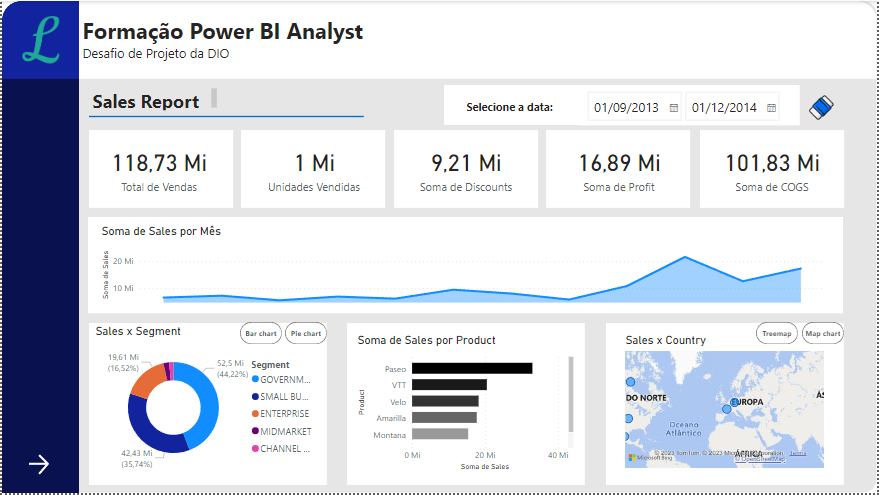

This screenshot's page, from the dashboard's own definition file:
{"tool":"powerbi","page":{"name":"P1","canvas":[1280,720],"ordinal":0},"visuals":[{"type":"shape","box":[10.1,0,1269.9,719.7],"z":0},{"type":"shape","box":[646.8,122.9,197.6,58.5],"z":0,"group":"g2"},{"type":"shape","box":[127.3,189.1,211.4,114.1],"z":0,"group":"g1"},{"type":"clusteredBarChart","title":"Sales x Segment ","fields":{"Category":["financials.Segment"],"Y":["Sum(financials. Sales)"]},"box":[140.5,481.5,316.1,216.6],"z":0,"group":"g4"},{"type":"shape","box":[0,0,112.7,720],"z":1000},{"type":"image","title":"Borracha","box":[1166.3,131.7,65.9,48.3],"z":1000,"group":"g2"},{"type":"shape","box":[350.4,189.1,211.4,114.1],"z":1000,"group":"g1"},{"type":"donutChart","title":"Sales x Segment ","fields":{"Y":["Sum(financials. Sales)"],"Category":["financials.Segment"]},"box":[131.6,472.9,336.2,223.6],"z":1000,"group":"g4"},{"type":"map","title":"Sales x Country ","fields":{"Category":["financials.Country"],"Size":["Sum(financials. Sales)"]},"box":[907.3,485.9,300,202],"z":1000,"group":"g3"},{"type":"actionButton","title":"Botão - Bar","box":[348.2,469.9,61.4,32.4],"z":1250,"group":"g4"},{"type":"actionButton","title":"Botão - Pie","box":[414.7,469.9,61.4,32.4],"z":1500,"group":"g4"},{"type":"shape","box":[0,0,112.7,114.1],"z":2000},{"type":"slicer","fields":{"Values":["financials.Date"]},"box":[844.4,122.9,323.4,58.5],"z":2000,"group":"g2"},{"type":"shape","box":[573.5,189.1,211.4,114.1],"z":2000,"group":"g1"},{"type":"image","title":"Logo L","box":[13.4,13.4,87.2,87.2],"z":3000},{"type":"textbox","box":[674.6,139,149.3,32.2],"z":3000,"group":"g2"},{"type":"shape","box":[796.7,189.1,211.4,114.1],"z":3000,"group":"g1"},{"type":"actionButton","title":"Botão - Treemap","box":[1103.7,469.3,61.4,32.4],"z":3000,"group":"g3"},{"type":"shape","box":[112.8,0,1167.2,114.2],"z":4000},{"type":"shape","box":[1021.5,189.1,211.4,114.1],"z":4000,"group":"g1"},{"type":"actionButton","title":"Botão - Map","box":[1170.2,469.3,61.4,32.4],"z":4000,"group":"g3"},{"type":"textbox","box":[112.7,16.1,537.1,82],"z":5000},{"type":"group","id":"g1","title":"Cartões","box":[127.3,189.1,1105.5,114.1],"z":6000},{"type":"shape","box":[127.3,147.8,402.4,42.4],"z":7000},{"type":"textbox","box":[127.3,122.9,191.7,42.4],"z":8000},{"type":"shape","box":[126.3,316.1,1105.1,141.5],"z":9000},{"type":"shape","box":[127.3,471.2,348.3,237.1],"z":10000},{"type":"areaChart","fields":{"Category":["financials.Date.Variation.Hierarquia de datas.Mês"],"Y":["Sum(financials. Sales)"]},"box":[140.6,326.9,1067.5,120],"z":11000},{"type":"card","fields":{"Values":["Sum(financials. Sales)"]},"box":[140.5,194.6,178.5,101],"z":12000},{"type":"card","fields":{"Values":["Sum(financials.Units Sold)"]},"box":[367.3,194.6,178.5,101],"z":13000},{"type":"card","fields":{"Values":["Sum(financials.Discounts)"]},"box":[589.8,194.6,178.5,101],"z":14000},{"type":"card","fields":{"Values":["Sum(financials.Profit)"]},"box":[813.7,194.6,178.5,101],"z":15000},{"type":"card","fields":{"Values":["Sum(financials.COGS)"]},"box":[1037.6,194.6,178.5,101],"z":16000},{"type":"shape","box":[504.9,471.2,348.3,237.1],"z":17000},{"type":"shape","box":[883.9,471.2,348.3,237.1],"z":18000},{"type":"actionButton","box":[1175.1,130.2,48.3,52.7],"z":18500},{"type":"actionButton","box":[34,658.8,43,39.4],"z":19000},{"type":"clusteredBarChart","fields":{"Y":["Sum(financials. Sales)"],"Category":["financials.Product"]},"box":[515.1,485.9,326.3,206.3],"z":20000},{"type":"group","id":"g2","title":"Filtro por data","box":[646.8,122.9,585.4,58.5],"z":21000},{"type":"group","id":"g3","title":"Sales por país","box":[902.8,469.3,328.9,228.7],"z":22000},{"type":"group","id":"g4","title":"Sales por segmento","box":[131.6,469.9,344.6,228.2],"z":23000}]}

Visuals, with their boxes on the page's 1280x720 design canvas (x1, y1, x2, y2). These are canvas units, not pixel positions in the 879x495 screenshot, which may show the page scaled, cropped or inside an application window:
shape: [x1=10, y1=0, x2=1280, y2=720]
shape: [x1=647, y1=123, x2=844, y2=181]
shape: [x1=127, y1=189, x2=339, y2=303]
"Sales x Segment " clusteredBarChart: [x1=140, y1=482, x2=457, y2=698]
shape: [x1=0, y1=0, x2=113, y2=720]
"Borracha" image: [x1=1166, y1=132, x2=1232, y2=180]
shape: [x1=350, y1=189, x2=562, y2=303]
"Sales x Segment " donutChart: [x1=132, y1=473, x2=468, y2=696]
"Sales x Country " map: [x1=907, y1=486, x2=1207, y2=688]
"Botão - Bar" actionButton: [x1=348, y1=470, x2=410, y2=502]
"Botão - Pie" actionButton: [x1=415, y1=470, x2=476, y2=502]
shape: [x1=0, y1=0, x2=113, y2=114]
slicer - financials.Date: [x1=844, y1=123, x2=1168, y2=181]
shape: [x1=574, y1=189, x2=785, y2=303]
"Logo L" image: [x1=13, y1=13, x2=101, y2=101]
textbox: [x1=675, y1=139, x2=824, y2=171]
shape: [x1=797, y1=189, x2=1008, y2=303]
"Botão - Treemap" actionButton: [x1=1104, y1=469, x2=1165, y2=502]
shape: [x1=113, y1=0, x2=1280, y2=114]
shape: [x1=1022, y1=189, x2=1233, y2=303]
"Botão - Map" actionButton: [x1=1170, y1=469, x2=1232, y2=502]
textbox: [x1=113, y1=16, x2=650, y2=98]
"Cartões" group: [x1=127, y1=189, x2=1233, y2=303]
shape: [x1=127, y1=148, x2=530, y2=190]
textbox: [x1=127, y1=123, x2=319, y2=165]
shape: [x1=126, y1=316, x2=1231, y2=458]
shape: [x1=127, y1=471, x2=476, y2=708]
areaChart - financials.Date.Variation.Hierarquia de datas.Mês x Sum(financials. Sales): [x1=141, y1=327, x2=1208, y2=447]
card - Sum(financials. Sales): [x1=140, y1=195, x2=319, y2=296]
card - Sum(financials.Units Sold): [x1=367, y1=195, x2=546, y2=296]
card - Sum(financials.Discounts): [x1=590, y1=195, x2=768, y2=296]
card - Sum(financials.Profit): [x1=814, y1=195, x2=992, y2=296]
card - Sum(financials.COGS): [x1=1038, y1=195, x2=1216, y2=296]
shape: [x1=505, y1=471, x2=853, y2=708]
shape: [x1=884, y1=471, x2=1232, y2=708]
actionButton: [x1=1175, y1=130, x2=1223, y2=183]
actionButton: [x1=34, y1=659, x2=77, y2=698]
clusteredBarChart - Sum(financials. Sales) x financials.Product: [x1=515, y1=486, x2=841, y2=692]
"Filtro por data" group: [x1=647, y1=123, x2=1232, y2=181]
"Sales por país" group: [x1=903, y1=469, x2=1232, y2=698]
"Sales por segmento" group: [x1=132, y1=470, x2=476, y2=698]
